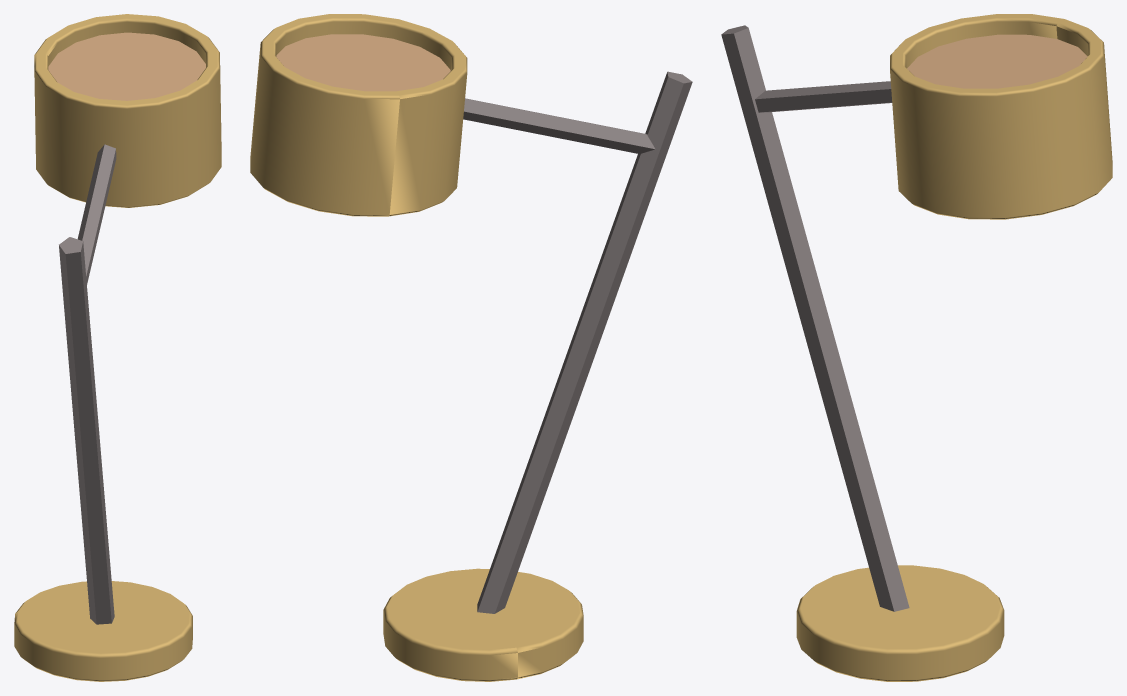
Rendered from one-leg-lamp-transformed.glb.
3 views of the same model, side by side, from view 1: azimuth 30°, elevation 25°; view 2: azimuth 150°, elevation 25°; view 3: azimuth 270°, elevation 25° (orthographic). The views are drawn at different scales.
Visible parts, largest first — view 1: Cylinder.004, Cylinder 4, Merged Geometry.010, Cylinder 5; view 2: Cylinder.004, Merged Geometry.010, Cylinder 4, Cylinder 5; view 3: Cylinder.004, Merged Geometry.010, Cylinder 4, Cylinder 5.
Part boxes in pixels (left/top/right/bottom): Cylinder.004: left=34, top=14, right=221, bottom=207; Cylinder 4: left=14, top=581, right=192, bottom=681; Merged Geometry.010: left=59, top=144, right=116, bottom=624; Cylinder 5: left=48, top=32, right=205, bottom=100; Cylinder.004: left=250, top=14, right=467, bottom=216; Merged Geometry.010: left=463, top=71, right=692, bottom=613; Cylinder 4: left=383, top=568, right=583, bottom=681; Cylinder 5: left=276, top=34, right=450, bottom=91; Cylinder.004: left=890, top=14, right=1112, bottom=219; Merged Geometry.010: left=721, top=25, right=909, bottom=611; Cylinder 4: left=796, top=565, right=1004, bottom=681; Cylinder 5: left=907, top=34, right=1087, bottom=88.
Bounding box in the file's own units: 0.8403 × 1.66 × 0.9309.
